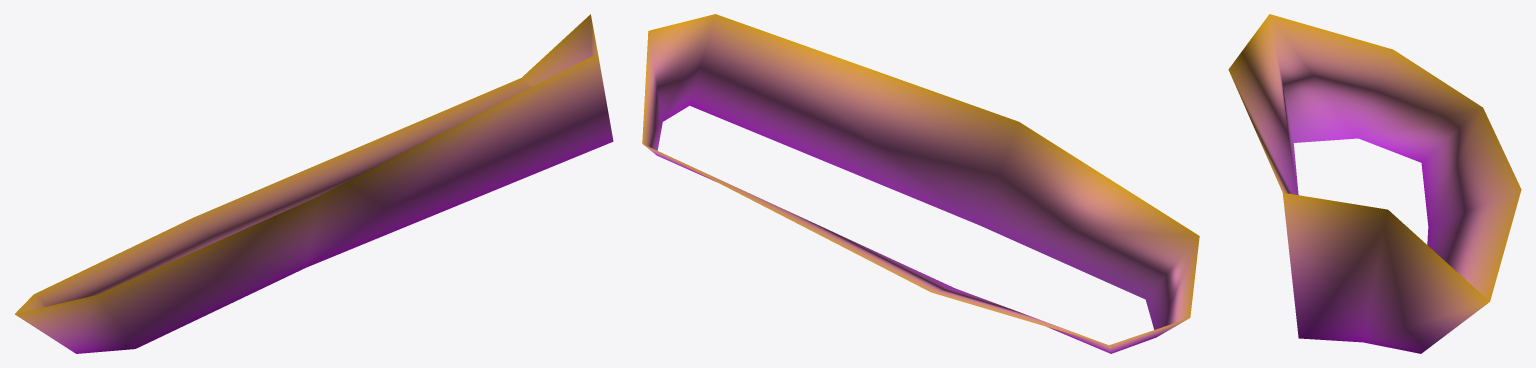
File: pressr.glb
3 views of the same model, side by side, from view 1: azimuth 30°, elevation 25°; view 2: azimuth 150°, elevation 25°; view 3: azimuth 270°, elevation 25° (orthographic). The views are drawn at different scales.
Parts seen in each view (by area): view 1: PressL; view 2: PressL; view 3: PressL.
Part boxes in pixels (left/top/right/bottom): PressL: left=15, top=14, right=613, bottom=353; PressL: left=642, top=14, right=1199, bottom=353; PressL: left=1228, top=14, right=1521, bottom=353.
Bounding box in the file's own units: 0.6358 × 0.222 × 0.2086.
